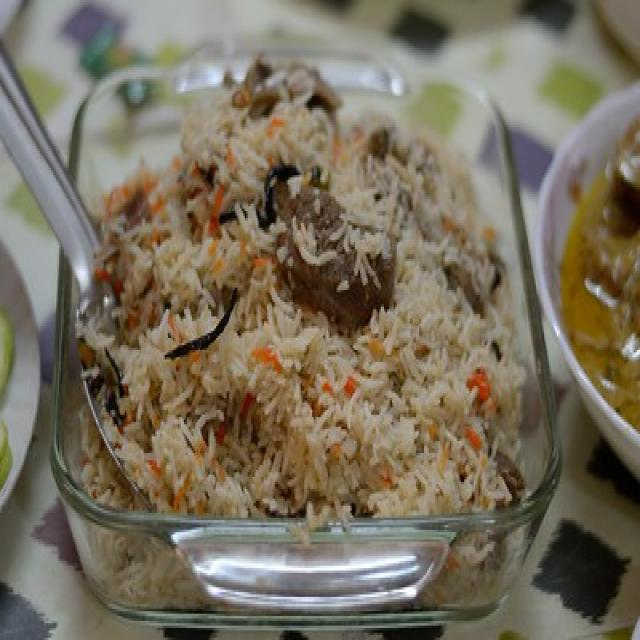Biryani: (91, 100, 493, 488)
